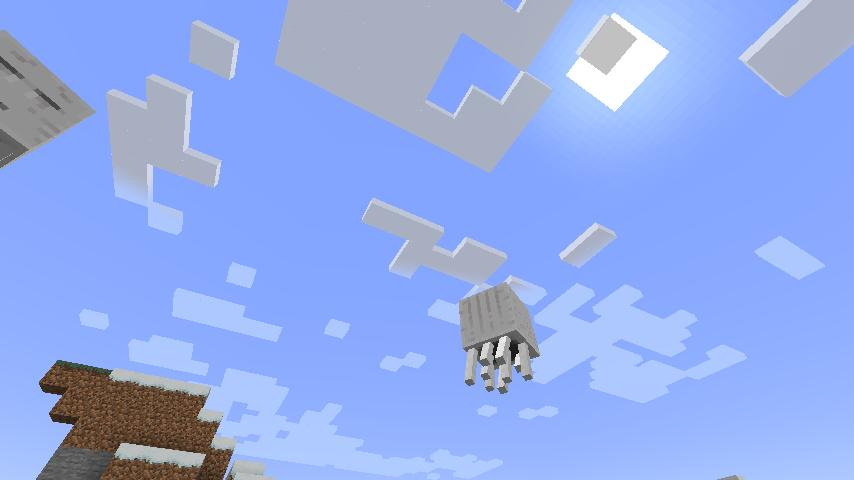ghast: (0, 26, 102, 178), (457, 281, 540, 399)
